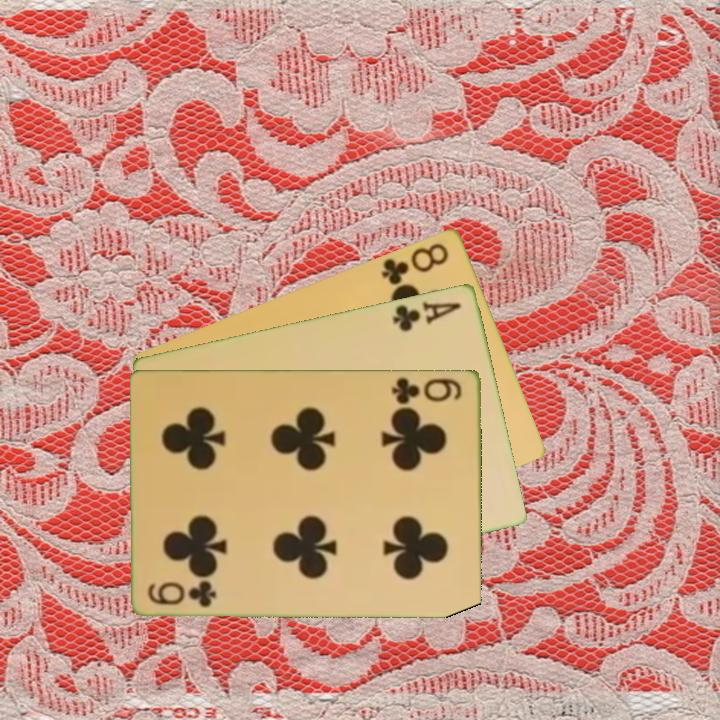6c: (388, 373, 465, 406), (144, 578, 220, 610)
8c: (378, 239, 452, 288)
Ac: (389, 297, 465, 334)
